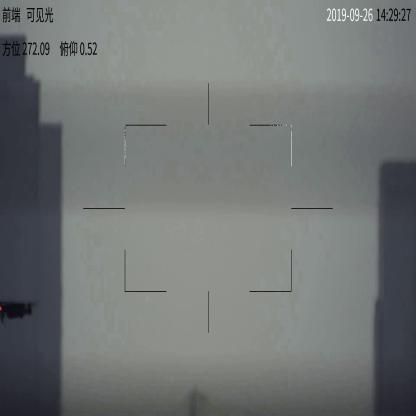uav: (0, 300, 39, 324)
